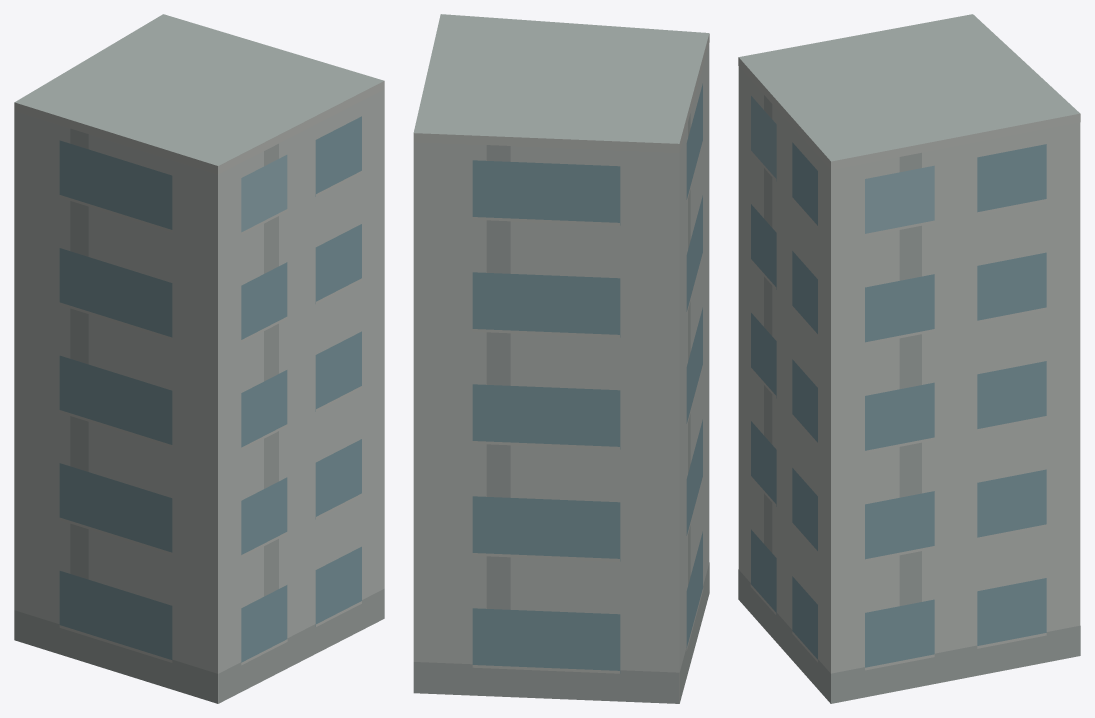
File: survey-upis-32707775.glb
3 renders of one model, left to right at view 1: azimuth 30°, elevation 25°; view 2: azimuth 150°, elevation 25°; view 3: azimuth 270°, elevation 25°, orthographic. The views are drawn at different scales.
Parts seen in each view (by area): view 1: survey-upis-32707775.tmp; view 2: survey-upis-32707775.tmp; view 3: survey-upis-32707775.tmp.
Boxes of the visible parts, x1,y1,x2,y2 form: survey-upis-32707775.tmp: [14, 14, 384, 703]; survey-upis-32707775.tmp: [413, 14, 709, 703]; survey-upis-32707775.tmp: [738, 14, 1080, 703].
Bounding box in the file's own units: 8.91 × 15.25 × 8.72.
